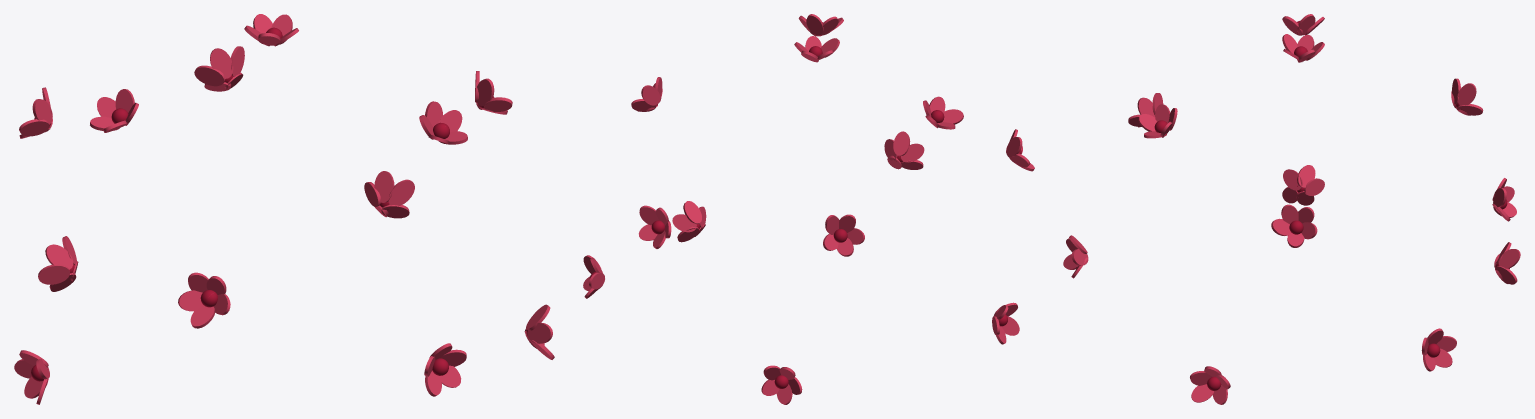
File: BushBloom.fbx
3 renders of one model, left to right at view 1: azimuth 30°, elevation 25°; view 2: azimuth 150°, elevation 25°; view 3: azimuth 270°, elevation 25°, orthographic. The views are drawn at different scales.
Visible parts, largest first — view 1: BushFlowers13; view 2: BushFlowers13; view 3: BushFlowers13.
Boxes of the visible parts, x1,y1,x2,y2 form: BushFlowers13: (14,14,554,404); BushFlowers13: (583,14,1034,404); BushFlowers13: (1063,14,1520,404).
Size of the model in its own units: 101 by 69.34 by 104.
